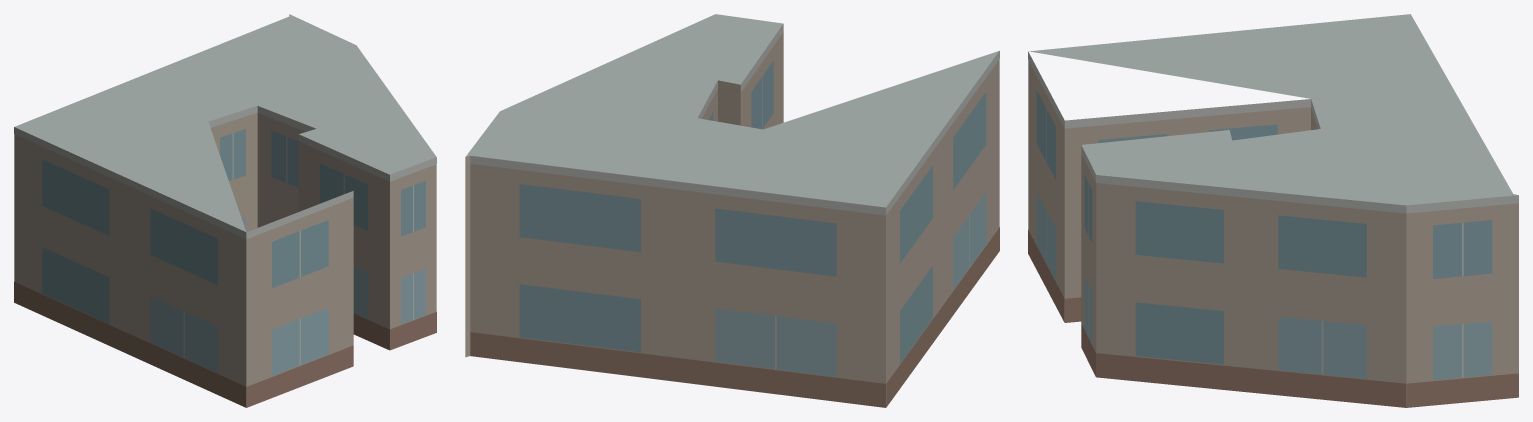
File: survey-upis-32767727.glb
3 views of the same model, side by side, from view 1: azimuth 30°, elevation 25°; view 2: azimuth 150°, elevation 25°; view 3: azimuth 270°, elevation 25° (orthographic). The views are drawn at different scales.
Visible parts, largest first — view 1: survey-upis-32767727.tmp; view 2: survey-upis-32767727.tmp; view 3: survey-upis-32767727.tmp.
Part boxes in pixels (left/top/right/bottom): survey-upis-32767727.tmp: left=14, top=14, right=436, bottom=407; survey-upis-32767727.tmp: left=465, top=14, right=999, bottom=407; survey-upis-32767727.tmp: left=1028, top=14, right=1518, bottom=407.
Size of the model in its own units: 12.39 by 6.1 by 13.41.
